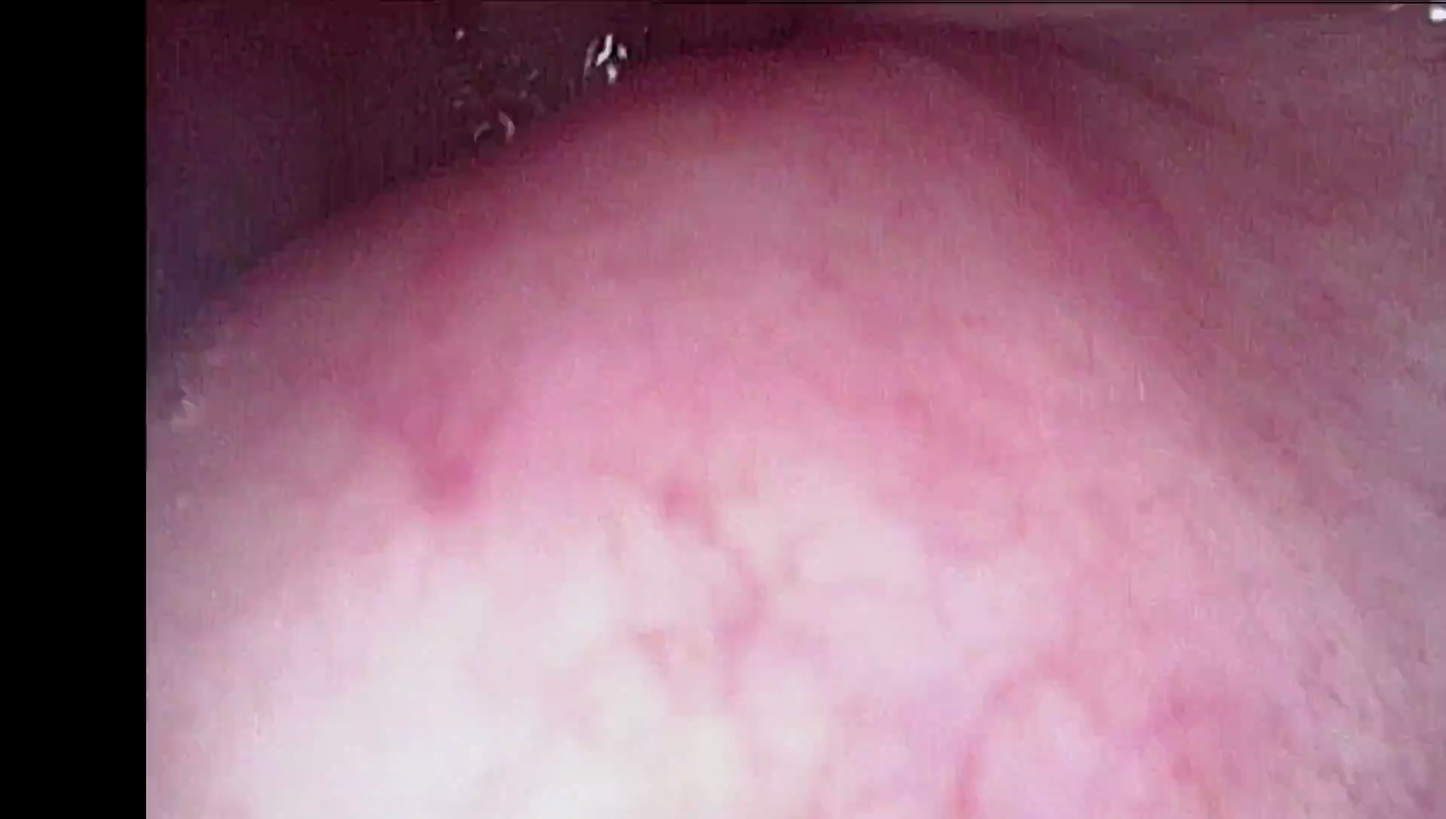close_wall: (238, 348, 1150, 819)
next: (160, 120, 340, 325), (393, 59, 541, 211), (664, 0, 867, 72)
